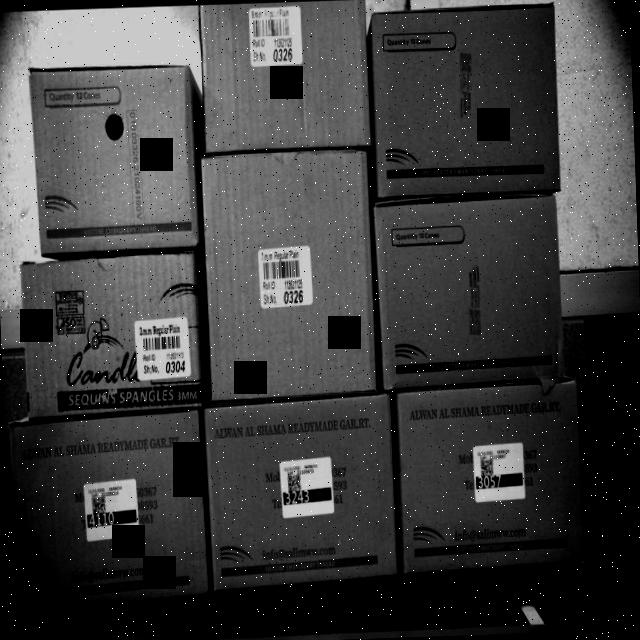box: (202, 149, 374, 394), (368, 2, 562, 198), (205, 395, 398, 586), (12, 415, 209, 602), (398, 384, 588, 570), (376, 200, 562, 387), (29, 62, 198, 252), (23, 258, 202, 411), (197, 0, 370, 148)
